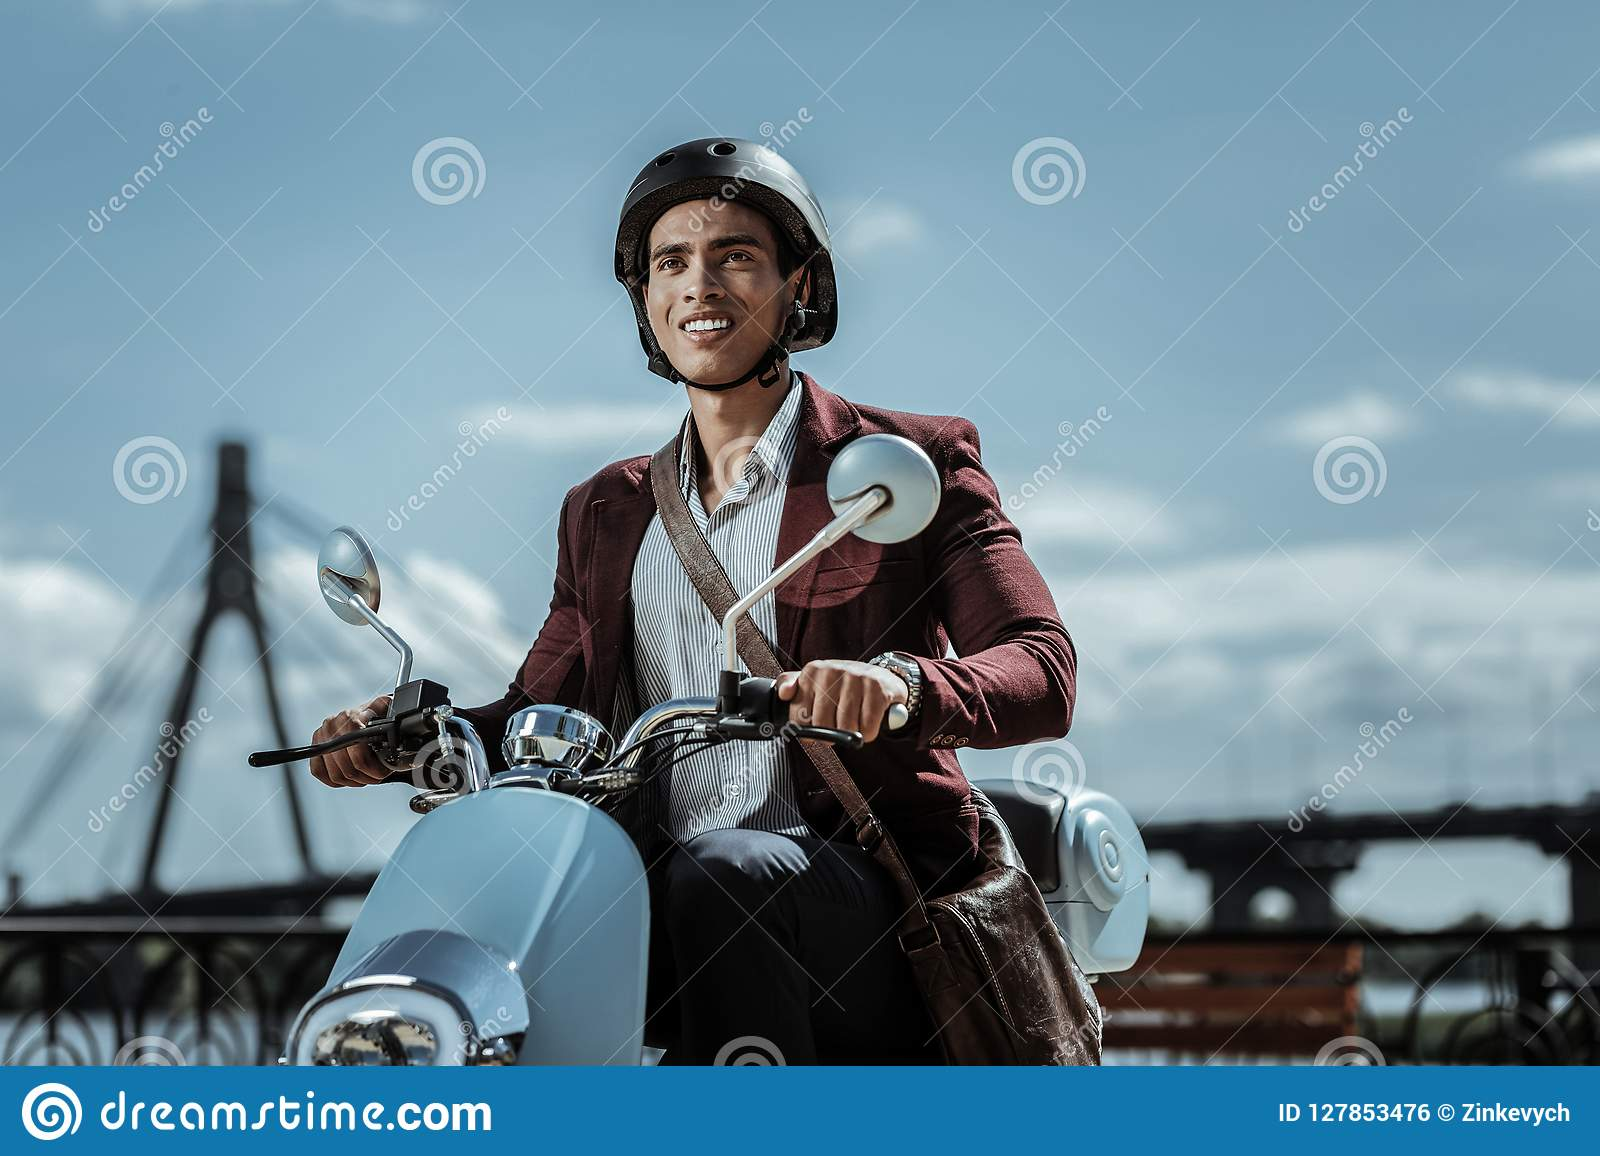helmet: (612, 142, 850, 284)
